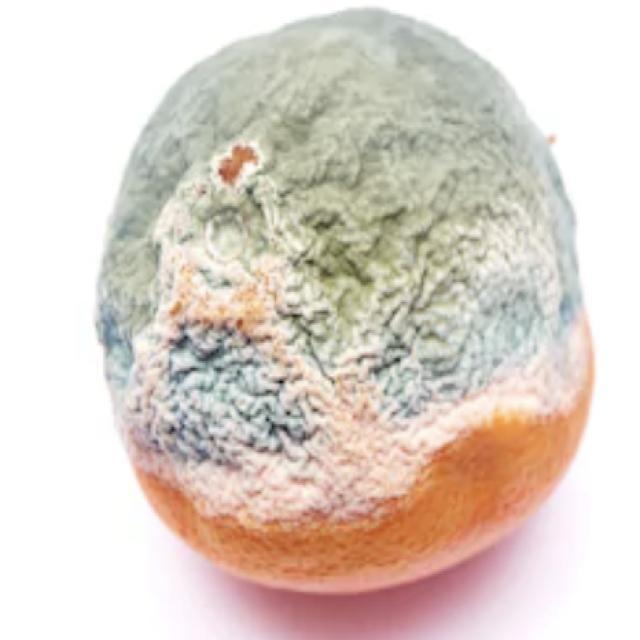sangat-busuk: (96, 10, 593, 591)
